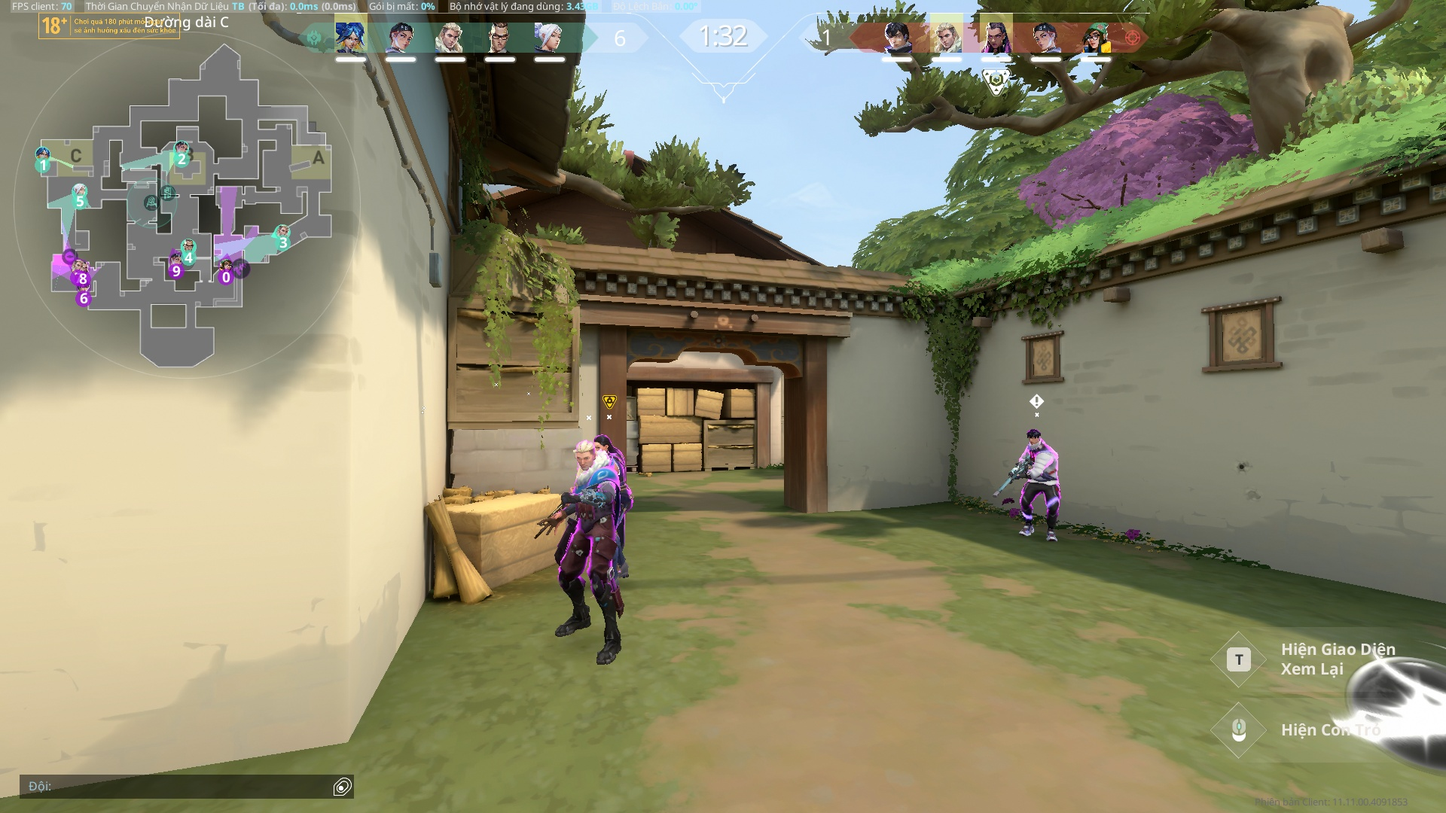body: (576, 467, 618, 531), (1025, 442, 1060, 480), (607, 451, 630, 485)
head: (573, 442, 596, 467), (593, 432, 611, 452), (1027, 428, 1042, 445)
